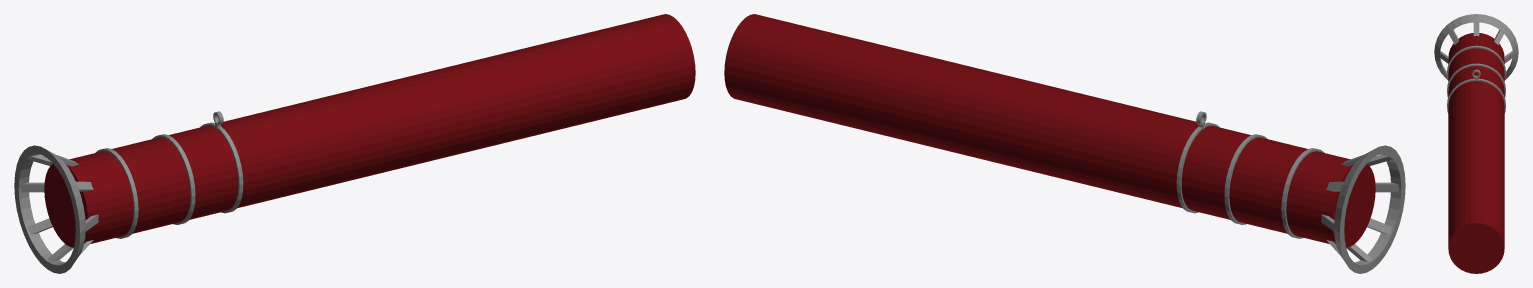
File: Gun.fbx
3 renders of one model, left to right at view 1: azimuth 30°, elevation 25°; view 2: azimuth 150°, elevation 25°; view 3: azimuth 270°, elevation 25°, orthographic. The views are drawn at different scales.
Parts seen in each view (by area): view 1: MainBazooka, Front, Rings; view 2: MainBazooka, Front, Rings; view 3: MainBazooka, Front, Rings.
Boxes of the visible parts, left/top/right/bottom form: MainBazooka: left=44, top=14, right=695, bottom=247; Front: left=14, top=145, right=98, bottom=273; Rings: left=95, top=122, right=243, bottom=238; MainBazooka: left=724, top=14, right=1375, bottom=247; Front: left=1321, top=145, right=1405, bottom=273; Rings: left=1176, top=122, right=1324, bottom=238; MainBazooka: left=1448, top=33, right=1504, bottom=273; Front: left=1434, top=14, right=1518, bottom=79; Rings: left=1447, top=45, right=1505, bottom=113.
Bounding box in the file's own units: 300 × 1650 × 300.
